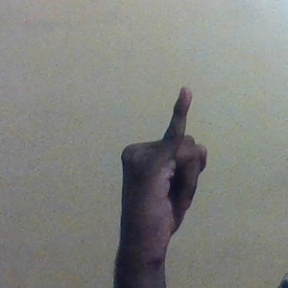I: (118, 87, 211, 243)
